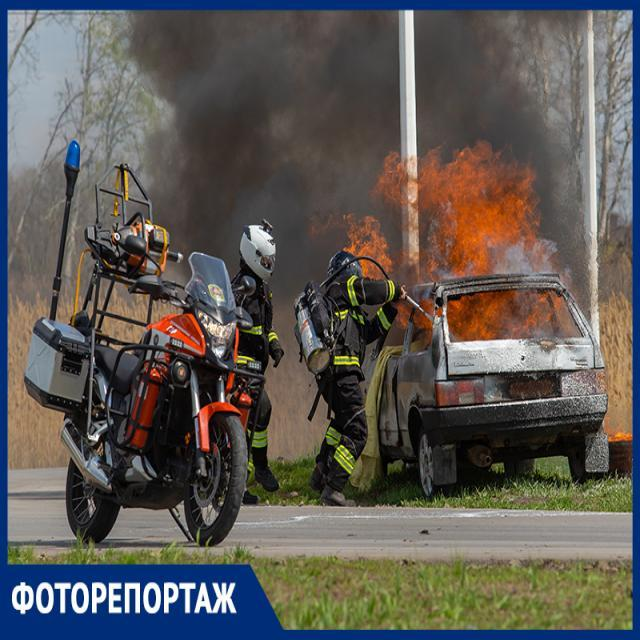Fire: (340, 140, 576, 342), (608, 422, 632, 442)
Smoke: (120, 0, 589, 323)
